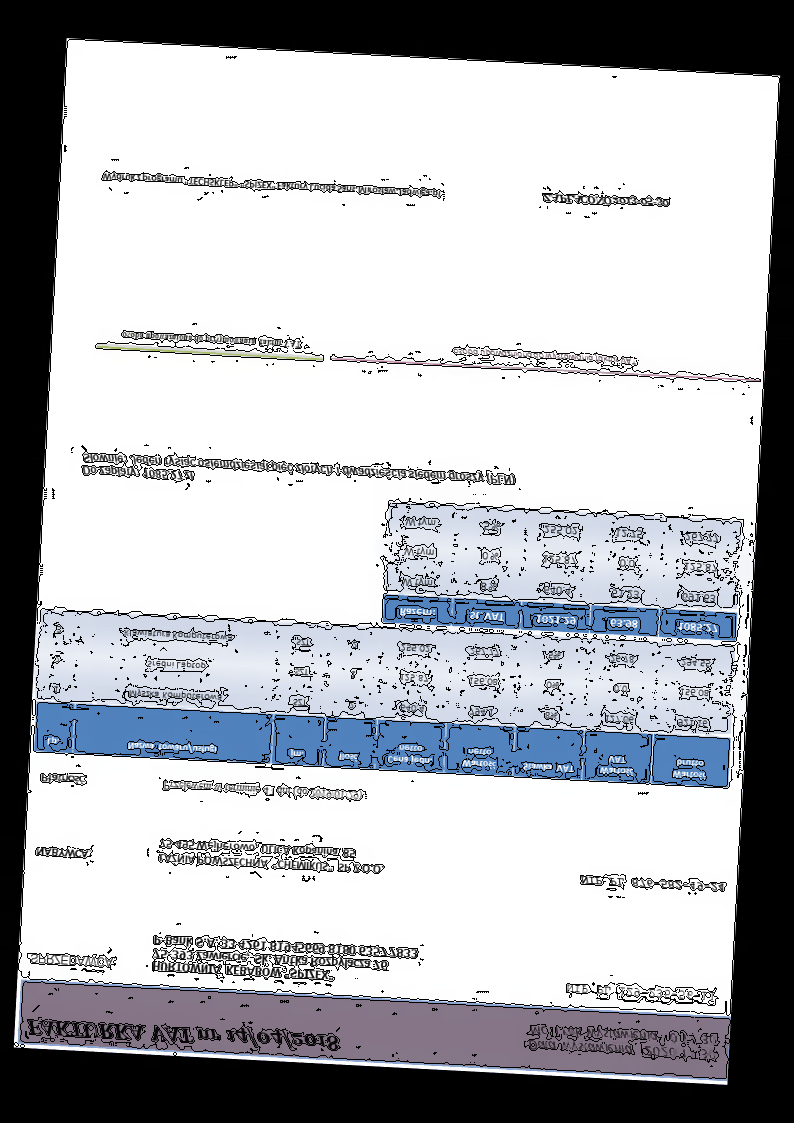Table: (31, 610, 738, 789), (380, 501, 743, 642)
TextBox: (79, 447, 518, 501), (150, 930, 419, 987), (23, 1012, 344, 1056), (99, 169, 444, 202), (155, 836, 387, 877), (524, 1022, 722, 1063), (160, 778, 365, 804), (117, 327, 304, 352), (450, 346, 638, 368), (563, 980, 717, 1003), (577, 872, 726, 895), (539, 188, 672, 211), (27, 951, 118, 972), (32, 845, 93, 861), (37, 770, 89, 787)
